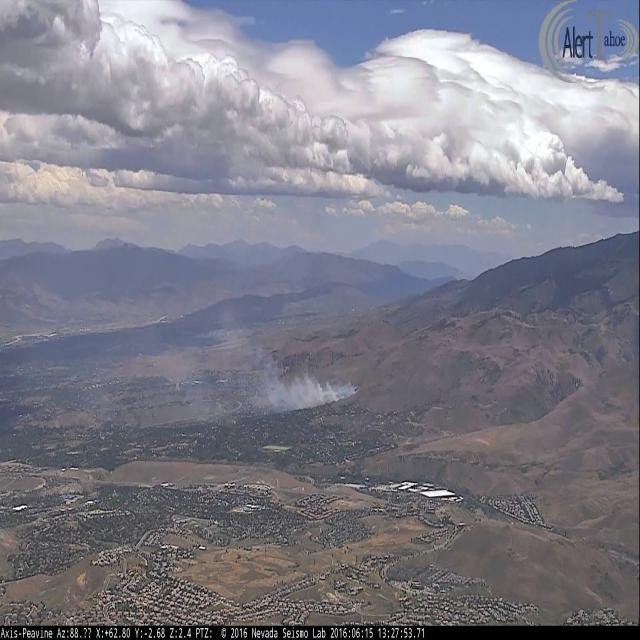smoke: (268, 364, 359, 413)
